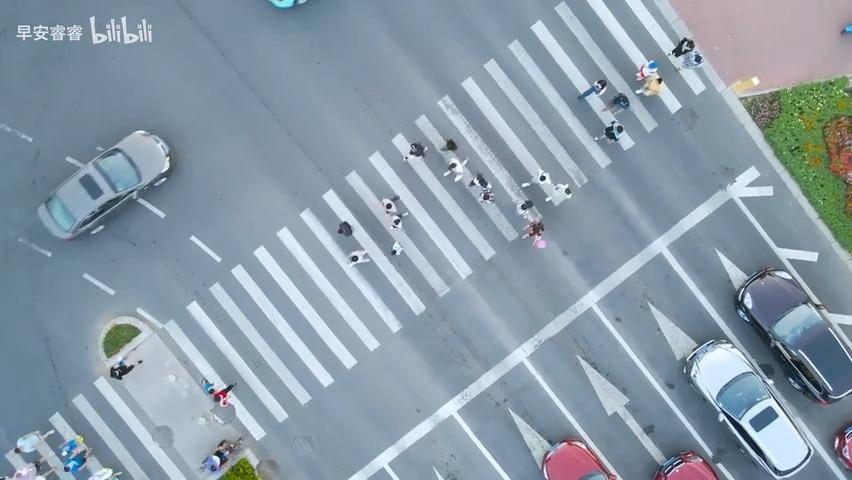Civilian: (199, 436, 242, 472), (518, 159, 557, 193), (200, 377, 237, 407), (380, 194, 408, 230), (15, 428, 54, 453), (593, 120, 624, 143), (442, 156, 469, 182), (57, 434, 85, 457), (577, 78, 607, 99), (521, 219, 544, 246), (545, 182, 572, 205), (634, 75, 663, 96), (674, 51, 703, 72), (13, 459, 42, 479), (600, 92, 629, 112), (109, 357, 135, 379), (667, 36, 694, 57), (255, 458, 281, 479), (635, 59, 659, 80), (467, 170, 491, 190), (403, 141, 427, 160), (87, 466, 122, 479), (63, 455, 86, 473), (347, 249, 370, 266), (381, 194, 400, 214), (389, 211, 408, 230), (477, 186, 495, 204), (515, 199, 533, 216), (612, 92, 629, 108), (439, 137, 458, 151), (337, 221, 353, 236), (390, 240, 403, 255)
